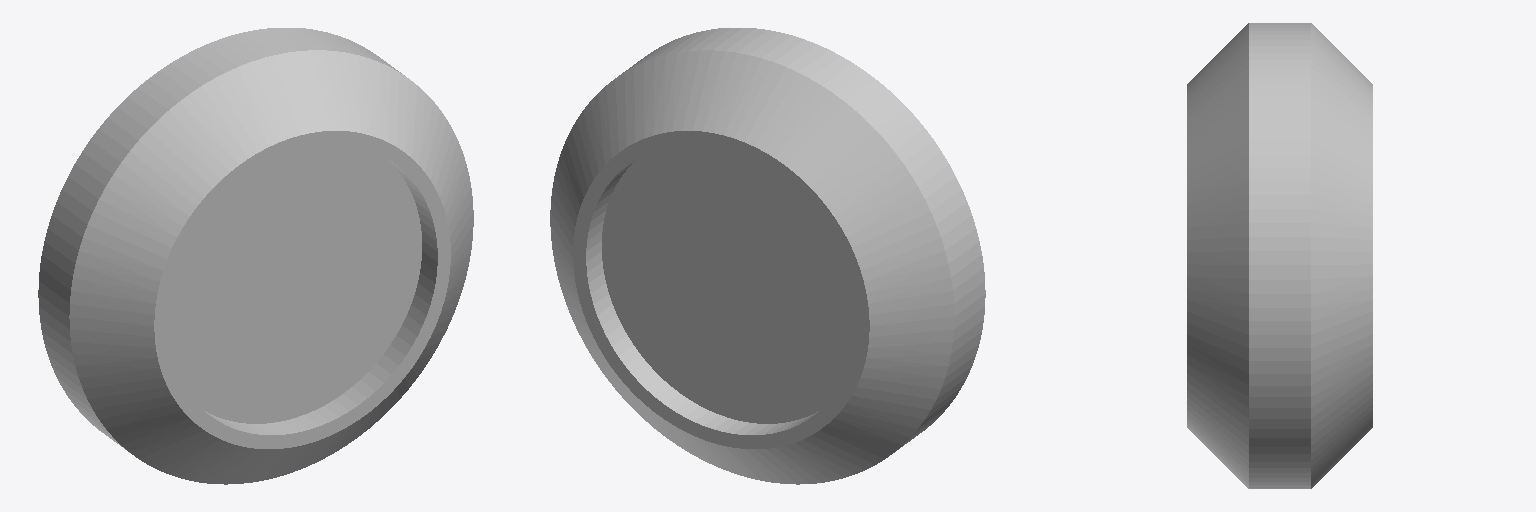
The model's file is ShipWheel.obj.
The picture shows the model from 3 angles: view 1: azimuth 30°, elevation 25°; view 2: azimuth 150°, elevation 25°; view 3: azimuth 270°, elevation 25°; orthographic projection.
Visible parts, largest first — view 1: ShipWheel; view 2: ShipWheel; view 3: ShipWheel.
Boxes of the visible parts, x1=… form: ShipWheel: x1=38, y1=28, x2=473, y2=484; ShipWheel: x1=550, y1=28, x2=985, y2=484; ShipWheel: x1=1187, y1=23, x2=1372, y2=488.
Size of the model in its own units: 75.13 by 75.13 by 30.